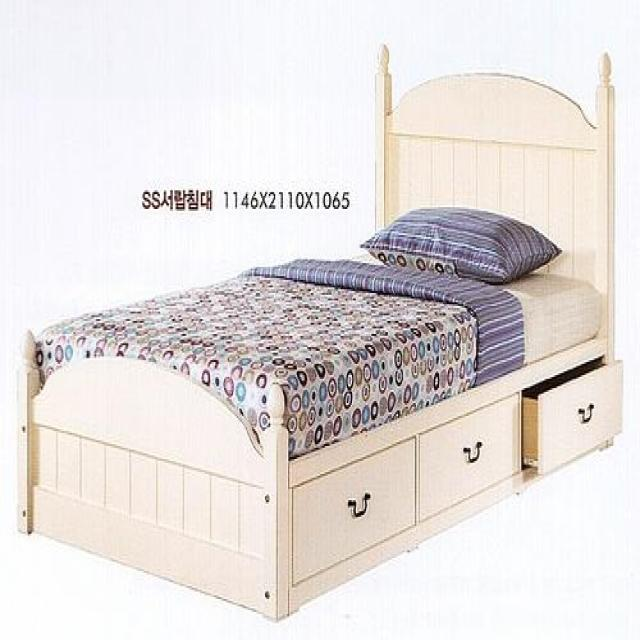bed: (18, 36, 624, 620)
